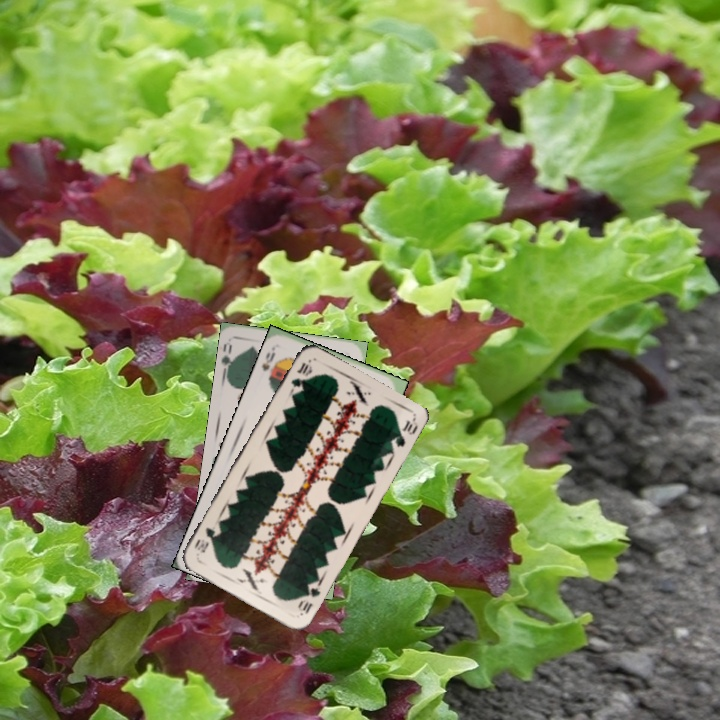G10: (293, 578, 323, 618), (287, 358, 314, 390)
GO: (219, 341, 240, 378)
SO: (257, 343, 282, 385)
